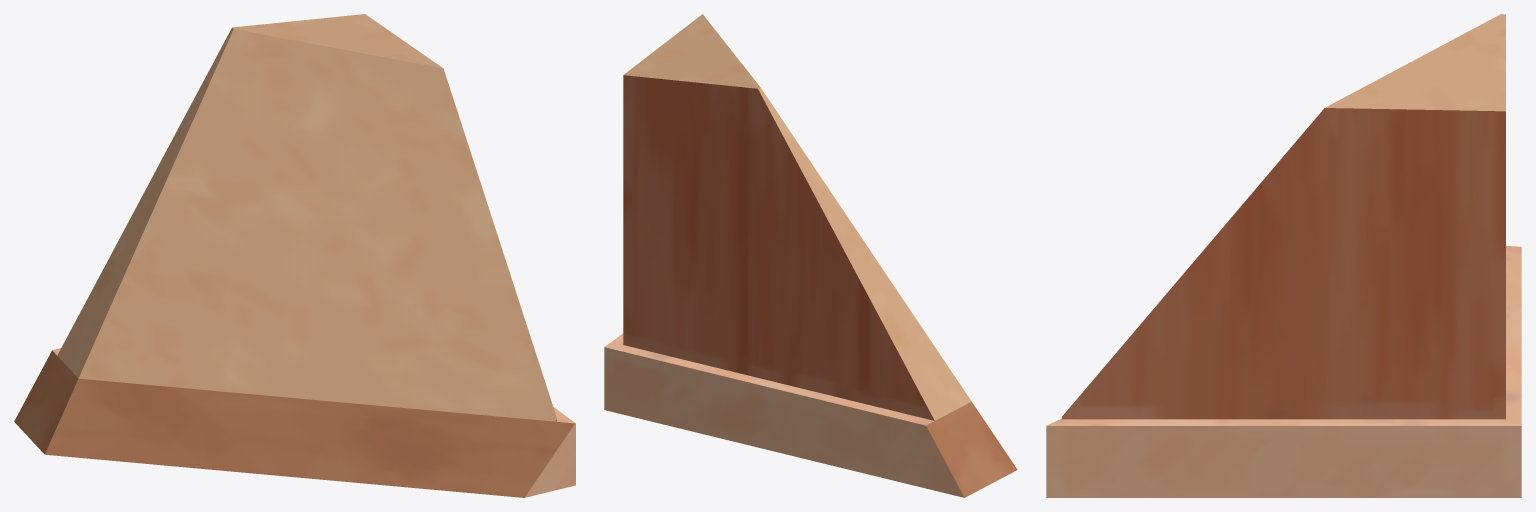
Rendered from counter_s00.fbx.
3 views of the same model, side by side, from view 1: azimuth 30°, elevation 25°; view 2: azimuth 150°, elevation 25°; view 3: azimuth 270°, elevation 25° (orthographic). The views are drawn at different scales.
Visible parts, largest first — view 1: counter_s00; view 2: counter_s00; view 3: counter_s00.
Boxes of the visible parts, bbox=[...] form: counter_s00: bbox=[14, 14, 575, 497]; counter_s00: bbox=[604, 14, 1017, 497]; counter_s00: bbox=[1046, 14, 1521, 497].
Size of the model in its own units: 1.54 by 1.4 by 1.5.
